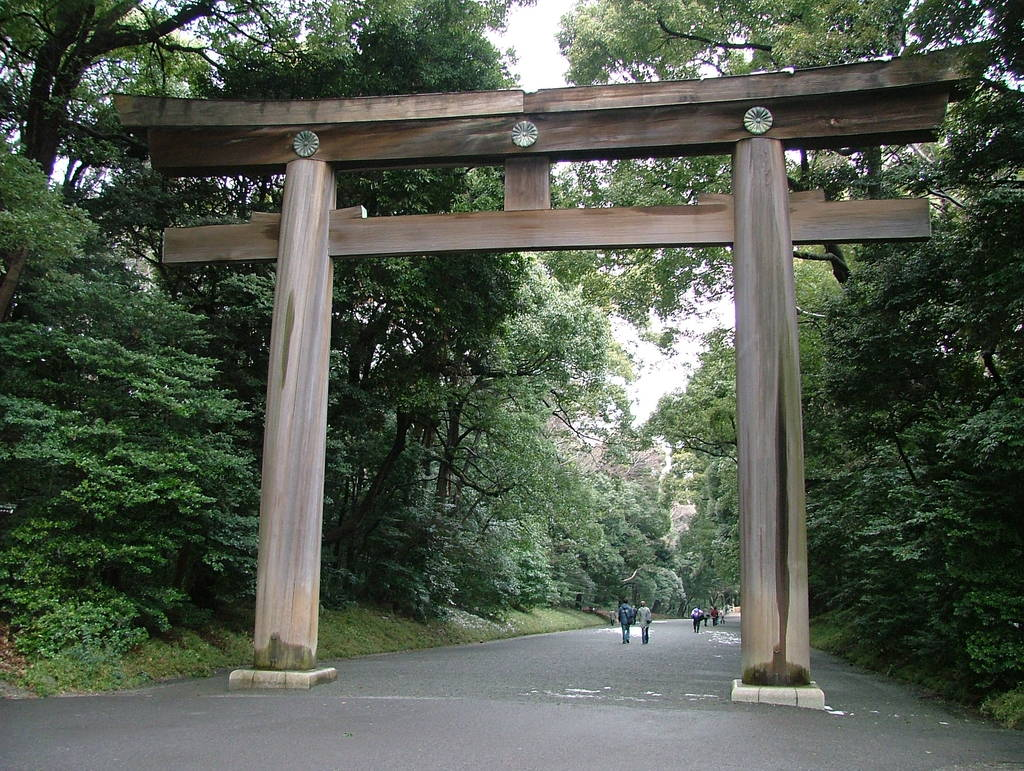Tree: (1, 0, 1024, 730)
